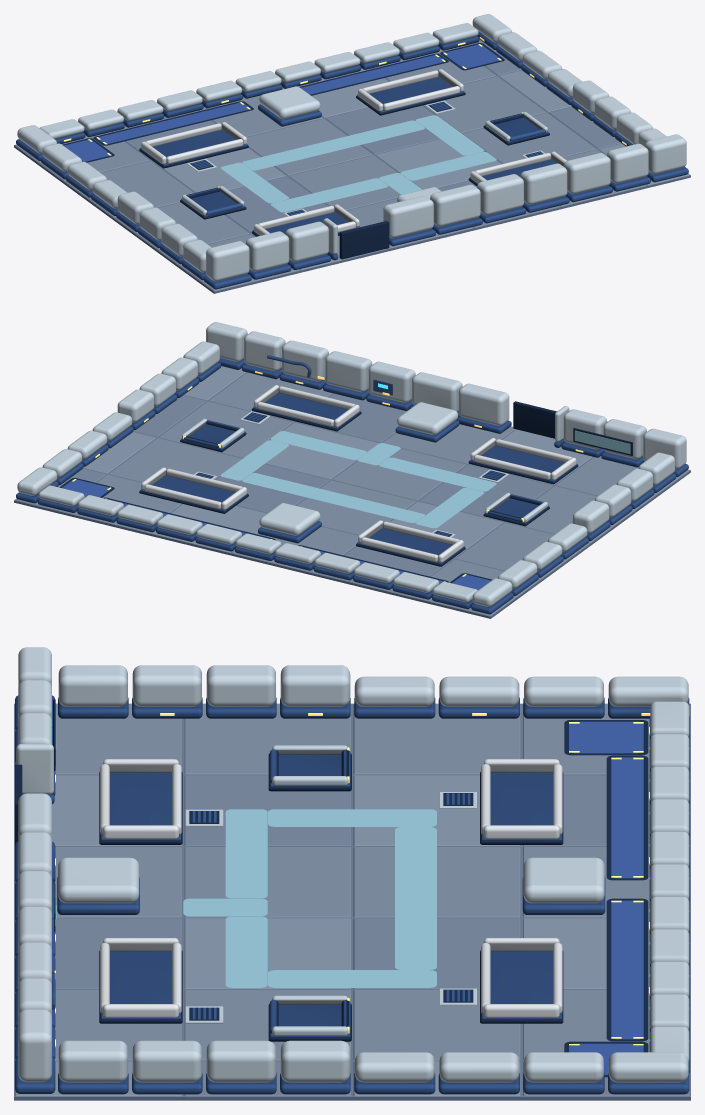
The model's file is CryoSoftRoomProps_cryo-b.fbx.
The picture shows the model from 3 angles, top to bottom: view 1: azimuth 30°, elevation 25°; view 2: azimuth 150°, elevation 25°; view 3: azimuth 270°, elevation 25°; orthographic projection. The views are drawn at different scales.
Visible parts, largest first — view 1: SC_wall_Soft_Ivory, SC_floor_Soft_Floor, SC_wall_Soft_Blue, SC_floor_Soft_FloorLight, SC_marking_Soft_Ice, SC_floor_Soft_FloorShade, SC_obstacle_Soft_White, SC_obstacle_Soft_Blue, SC_marking_Soft_Dock, SC_floor_Soft_Seam, SC_marking_Soft_Navy, SC_wall_Soft_Navy (+2 smaller); view 2: SC_wall_Soft_Ivory, SC_floor_Soft_Floor, SC_wall_Soft_Blue, SC_floor_Soft_FloorLight, SC_floor_Soft_FloorShade, SC_marking_Soft_Ice, SC_obstacle_Soft_White, SC_obstacle_Soft_Blue, SC_floor_Soft_Seam, SC_obstacle_Soft_Navy, SC_wall_Soft_Navy, SC_marking_Soft_Navy (+3 smaller); view 3: SC_wall_Soft_Ivory, SC_floor_Soft_Floor, SC_floor_Soft_FloorShade, SC_floor_Soft_FloorLight, SC_wall_Soft_Blue, SC_marking_Soft_Ice, SC_obstacle_Soft_Blue, SC_obstacle_Soft_White, SC_marking_Soft_Dock, SC_floor_Soft_Seam, SC_marking_Soft_Navy, SC_obstacle_Soft_Navy (+3 smaller).
Part boxes in pixels (x1,y1,x2,y2): SC_wall_Soft_Ivory: [17, 14, 686, 281]; SC_floor_Soft_Floor: [15, 47, 646, 290]; SC_wall_Soft_Blue: [16, 31, 688, 289]; SC_floor_Soft_FloorLight: [152, 68, 689, 269]; SC_marking_Soft_Ice: [221, 115, 496, 212]; SC_floor_Soft_FloorShade: [112, 39, 620, 233]; SC_obstacle_Soft_White: [141, 69, 566, 235]; SC_obstacle_Soft_Blue: [140, 77, 557, 235]; SC_marking_Soft_Dock: [64, 44, 500, 161]; SC_floor_Soft_Seam: [14, 47, 690, 293]; SC_marking_Soft_Navy: [62, 43, 543, 215]; SC_wall_Soft_Navy: [339, 221, 389, 259]; SC_wall_Soft_Ivory: [17, 322, 686, 606]; SC_floor_Soft_Floor: [58, 372, 689, 616]; SC_wall_Soft_Blue: [16, 355, 688, 614]; SC_floor_Soft_FloorLight: [83, 366, 592, 558]; SC_floor_Soft_FloorShade: [15, 393, 552, 594]; SC_marking_Soft_Ice: [220, 431, 496, 528]; SC_obstacle_Soft_White: [141, 385, 576, 562]; SC_obstacle_Soft_Blue: [140, 392, 577, 564]; SC_floor_Soft_Seam: [14, 372, 690, 618]; SC_obstacle_Soft_Navy: [139, 408, 578, 566]; SC_wall_Soft_Navy: [513, 401, 632, 455]; SC_marking_Soft_Navy: [59, 412, 505, 583]; SC_wall_Soft_Ivory: [16, 647, 689, 1082]; SC_floor_Soft_Floor: [55, 703, 689, 1060]; SC_floor_Soft_FloorShade: [55, 775, 689, 1096]; SC_floor_Soft_FloorLight: [15, 775, 649, 1096]; SC_wall_Soft_Blue: [15, 695, 689, 1094]; SC_marking_Soft_Ice: [183, 809, 436, 987]; SC_obstacle_Soft_Blue: [100, 749, 561, 1037]; SC_obstacle_Soft_White: [100, 759, 562, 1017]; SC_marking_Soft_Dock: [569, 721, 643, 1074]; SC_floor_Soft_Seam: [14, 703, 690, 1100]; SC_marking_Soft_Navy: [189, 720, 648, 1077]; SC_obstacle_Soft_Navy: [99, 753, 563, 1041].
Bounding box in the file's own units: 4400 × 334 × 3200.
